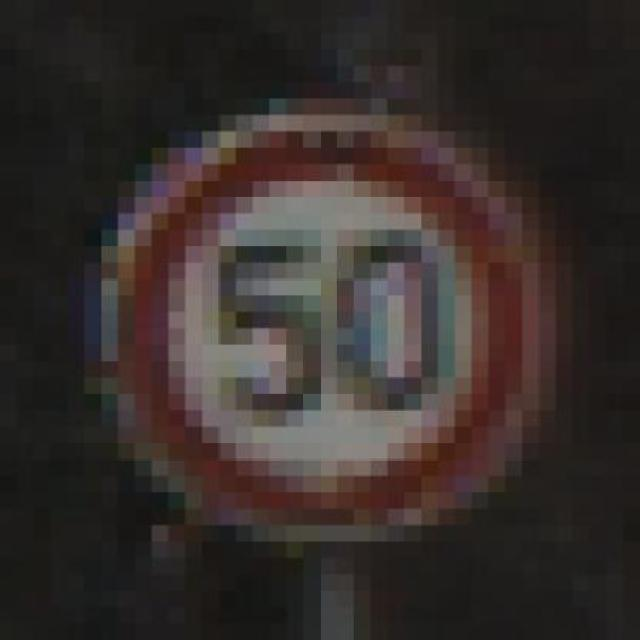50 mph speed limit: (66, 101, 572, 562)
